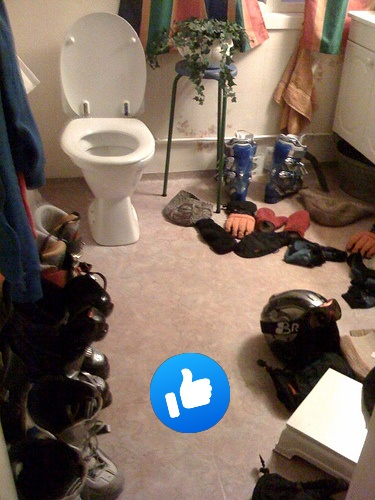like: (150, 353, 230, 433)
